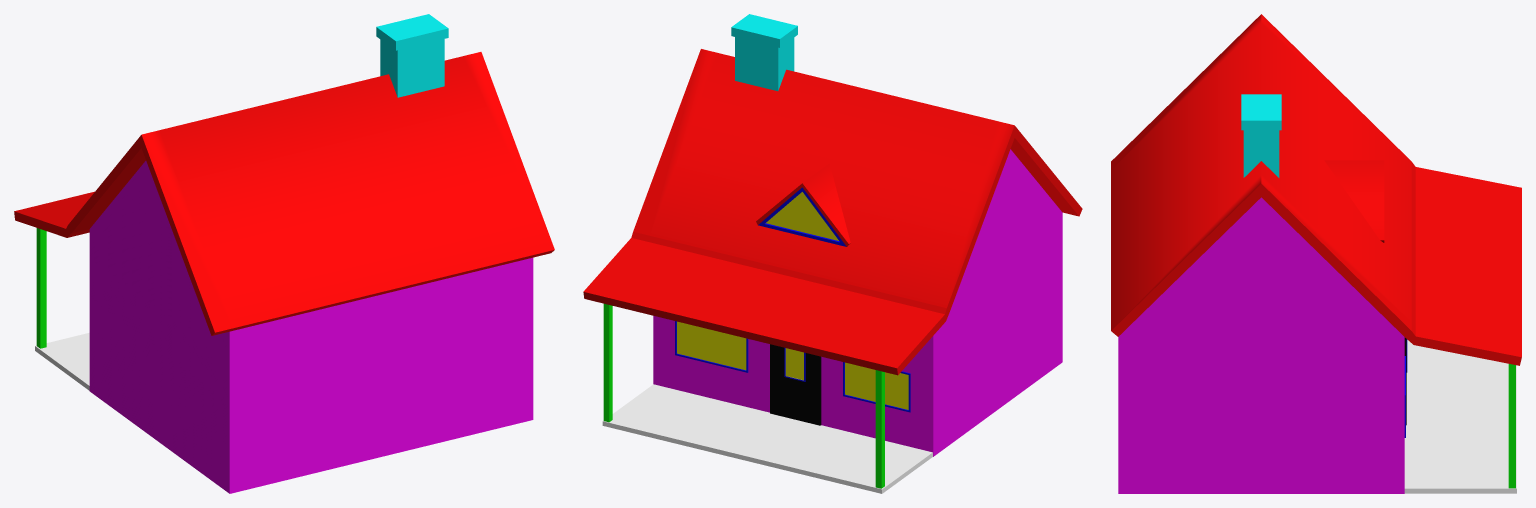
File: farmhouse.fbx
3 views of the same model, side by side, from view 1: azimuth 30°, elevation 25°; view 2: azimuth 150°, elevation 25°; view 3: azimuth 270°, elevation 25° (orthographic). The views are drawn at different scales.
Visible parts, largest first — view 1: pCube1, pCube5, pCube2, pCube4; view 2: pCube1, pCube2, pCube6, pCube5, pCube7, pCube4; view 3: pCube1, pCube2, pCube5, pCube6, pCube7.
Boxes of the visible parts, box(x1,y1,x2,y2) form: pCube1: box(14, 52, 554, 493); pCube5: box(376, 14, 448, 97); pCube2: box(35, 332, 89, 390); pCube4: box(36, 228, 46, 348); pCube1: box(583, 49, 1082, 456); pCube2: box(602, 384, 932, 493); pCube6: box(756, 163, 850, 246); pCube5: box(731, 14, 797, 91); pCube7: box(603, 303, 612, 422); pCube4: box(875, 370, 884, 488); pCube1: box(1111, 14, 1521, 493); pCube2: box(1404, 340, 1516, 493); pCube5: box(1241, 94, 1281, 177); pCube6: box(1324, 160, 1384, 242); pCube7: box(1508, 364, 1515, 488).
Bounding box in the file's own units: 11.2 × 11.13 × 11.47.
